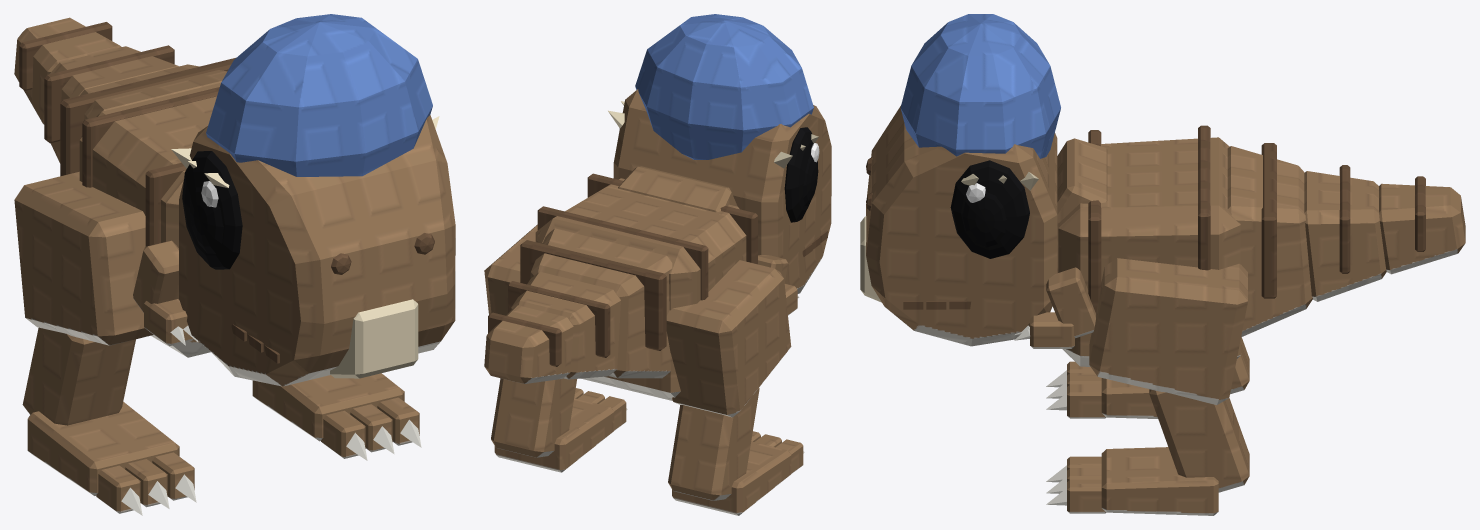
Rendered from bebe_05_Pachycephalosaurus.glb.
The picture shows the model from 3 angles, left to right: view 1: azimuth 30°, elevation 25°; view 2: azimuth 150°, elevation 25°; view 3: azimuth 270°, elevation 25°; orthographic projection. The views are drawn at different scales.
Parts seen in each view (by area): view 1: bebe_05_Pachycephalosaurus; view 2: bebe_05_Pachycephalosaurus; view 3: bebe_05_Pachycephalosaurus.
Boxes of the visible parts, <box> form: bebe_05_Pachycephalosaurus: <box>14,14,455,515</box>; bebe_05_Pachycephalosaurus: <box>484,14,831,515</box>; bebe_05_Pachycephalosaurus: <box>860,14,1465,515</box>.
Bounding box in the file's own units: 1.31 × 1.97 × 2.52.
Materials: 1 (1 with a texture image).
